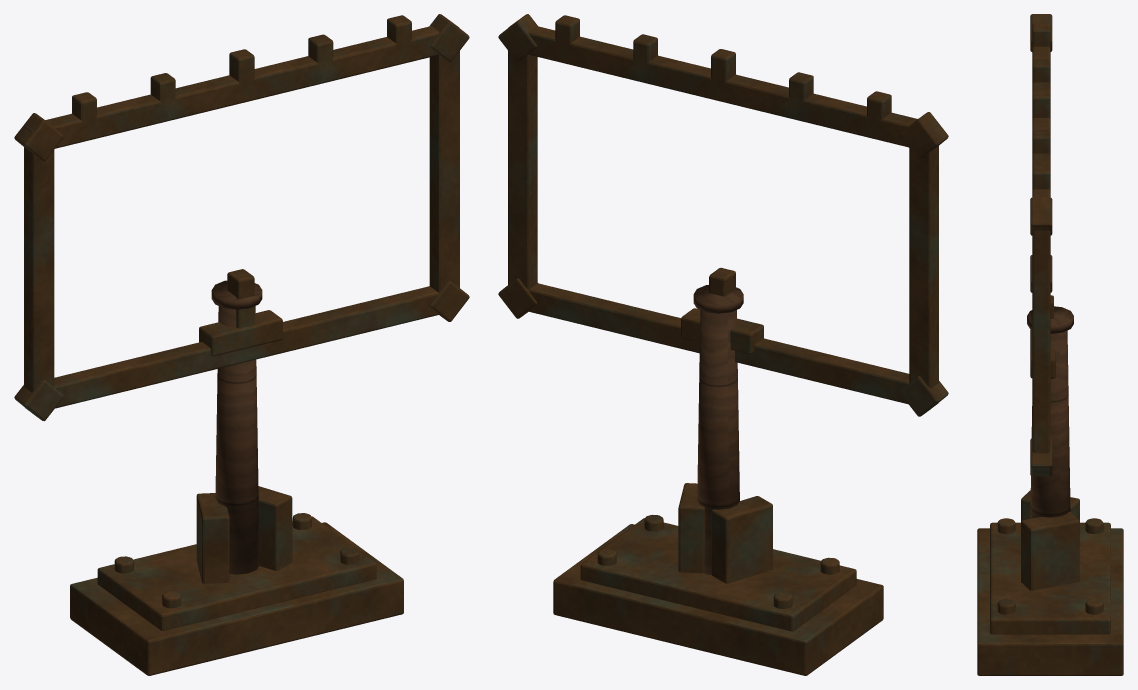
File: guide_sign_post.glb
The picture shows the model from 3 angles, left to right: view 1: azimuth 30°, elevation 25°; view 2: azimuth 150°, elevation 25°; view 3: azimuth 270°, elevation 25°; orthographic projection. The views are drawn at different scales.
Visible parts, largest first — view 1: sign_frame, sign_post; view 2: sign_frame, sign_post; view 3: sign_frame, sign_post.
Boxes of the visible parts, bbox=[...] form: sign_frame: bbox=[14, 14, 469, 675]; sign_post: bbox=[211, 280, 262, 574]; sign_frame: bbox=[498, 14, 948, 675]; sign_post: bbox=[693, 285, 743, 574]; sign_frame: bbox=[977, 14, 1123, 675]; sign_post: bbox=[1027, 306, 1073, 518].
Size of the model in its own units: 2.6 by 3.16 by 0.8.
2 materials, 2 textured.
